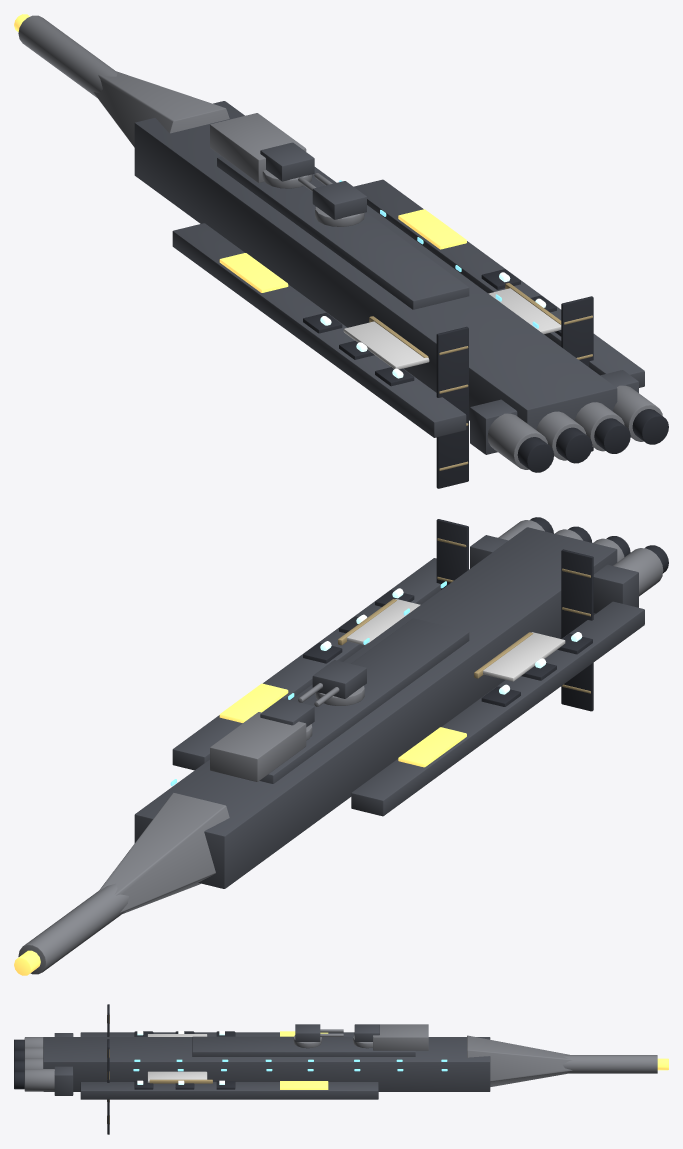
The model's file is destroyer.glb.
The picture shows the model from 3 angles, top to bottom: view 1: azimuth 30°, elevation 25°; view 2: azimuth 150°, elevation 25°; view 3: azimuth 270°, elevation 25°; orthographic projection. The views are drawn at different scales.
Visible parts, largest first — view 1: destroyer; view 2: destroyer; view 3: destroyer.
Boxes of the visible parts, <box> form: destroyer: <box>14,14,668,488</box>; destroyer: <box>14,517,668,975</box>; destroyer: <box>14,1004,668,1134</box>.
Bounding box in the file's own units: 7.45 × 5.2 × 35.18.
